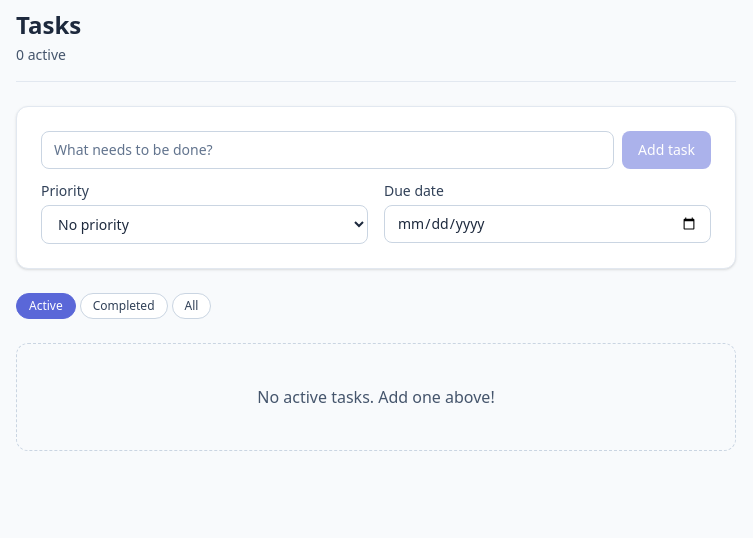
Test case: Tasks page › says why adding a task failed and keeps the typed title
Expected: the text "No active tasks. Add one above!" is shown, [257,386,495,408]
In the field named "New task": (328, 150) [41,131,614,169], type "Ship it"
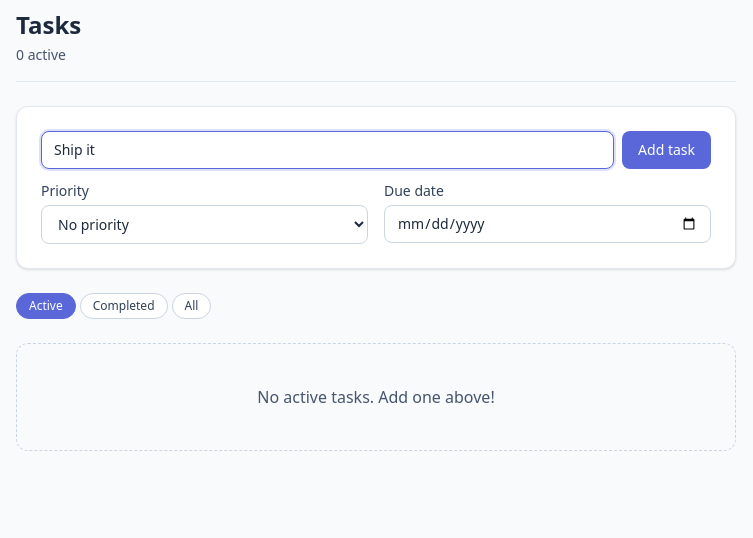
Click the button "Add task": (667, 150) [622,131,711,169]
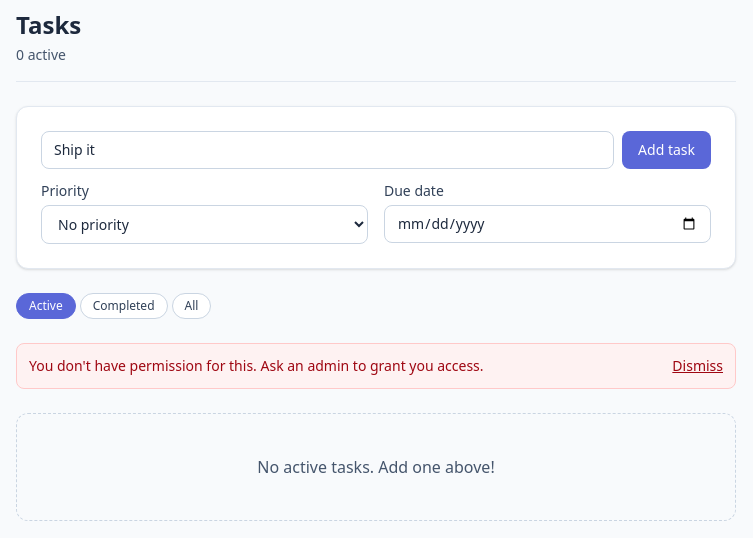
Result: the message shows "You don't have permission" at [29,356,484,375]
